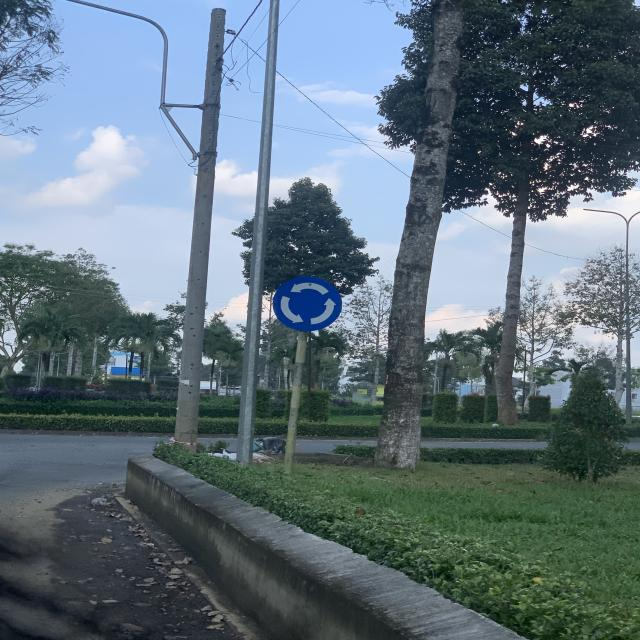Xe_Bus: (272, 276, 344, 331)
